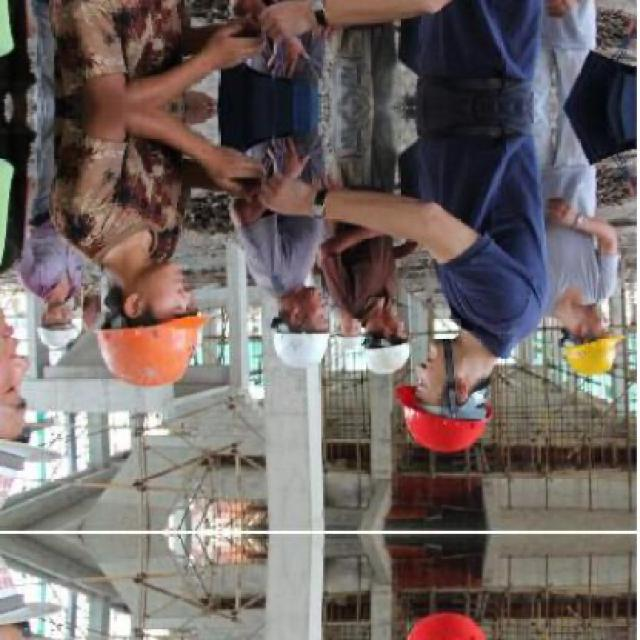con casco: (60, 289, 241, 405), (362, 350, 509, 460), (214, 298, 366, 382), (0, 343, 62, 520), (356, 324, 415, 397), (564, 321, 618, 388)
